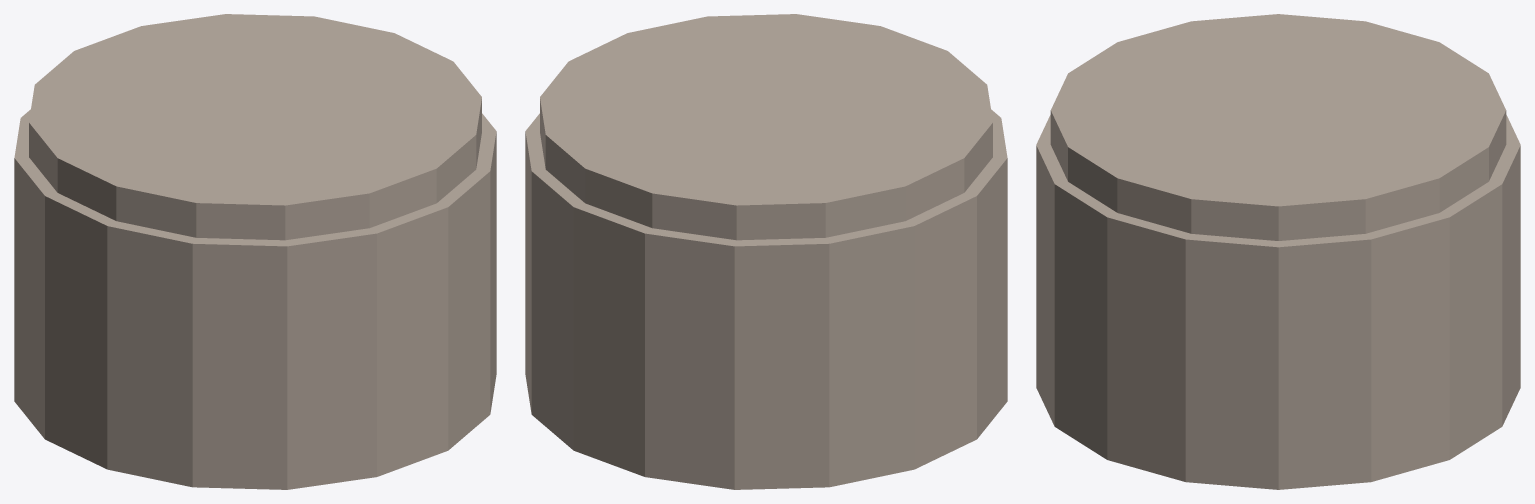
The picture shows the model from 3 angles, left to right: view 1: azimuth 30°, elevation 25°; view 2: azimuth 150°, elevation 25°; view 3: azimuth 270°, elevation 25°; orthographic projection.
Parts seen in each view (by area): view 1: puf_retreat_1; view 2: puf_retreat_1; view 3: puf_retreat_1.
Part boxes in pixels (box(x1,y1,x2,y2)): puf_retreat_1: box(14, 14, 496, 489); puf_retreat_1: box(525, 14, 1007, 489); puf_retreat_1: box(1036, 14, 1520, 489).
Bounding box in the file's own units: 0.76 × 0.76 × 0.48.
